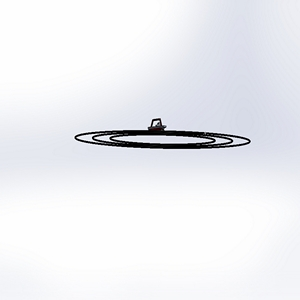circle: (65, 123, 255, 161)
submarine: (139, 115, 173, 133)
